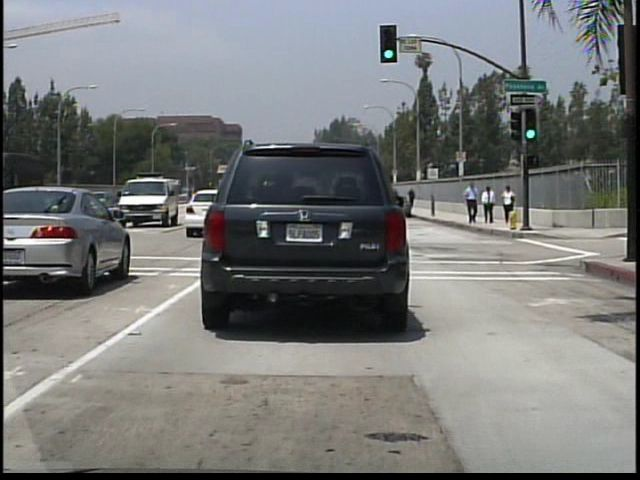person: (462, 180, 479, 226), (481, 185, 497, 225), (502, 184, 518, 213), (409, 188, 417, 205)
